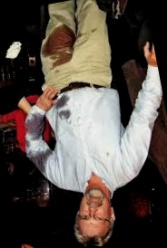wine: (39, 22, 80, 72), (51, 91, 79, 114), (24, 115, 44, 143), (33, 149, 55, 172), (54, 106, 77, 125)
